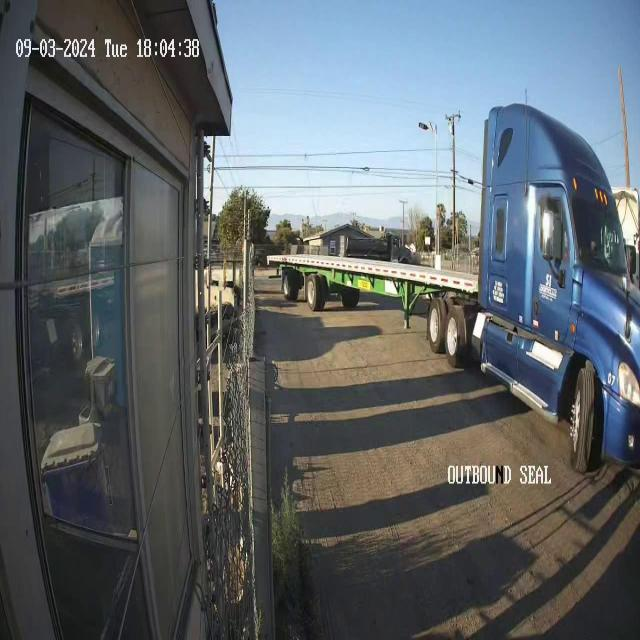BOBTAIL: (268, 101, 640, 474)
